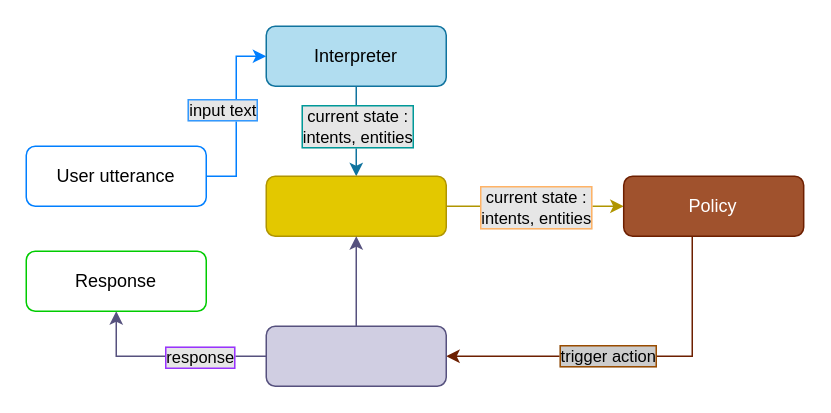
The diagram is 831 pixels wide and 413 high, and some of its shapes have lost their labels. Here are the shapes that lost their labels. From the top down, the centre of each, then its label:
At point (355, 205): "Tracker".
At point (355, 355): "Action".
